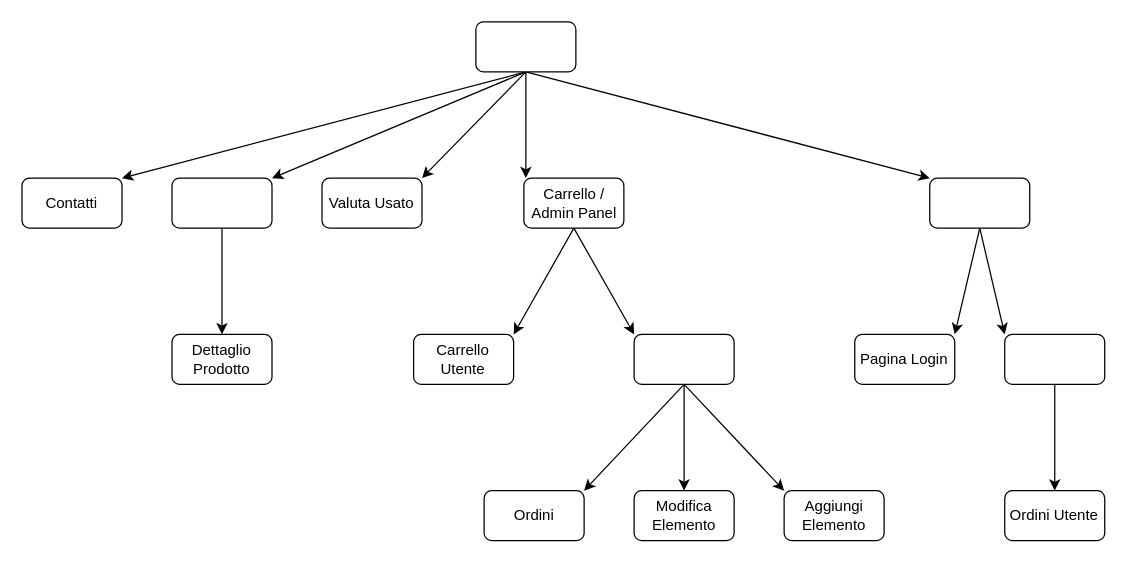
This 1128x563 diagram has some shape labels left out. Each missing label, with the centre of its shape:
Accedi / Account: the point at 979,202
Home: the point at 525,46
Pagina Utente: the point at 1054,358
Pannello Admin: the point at 683,358
Prodotti: the point at 221,202
